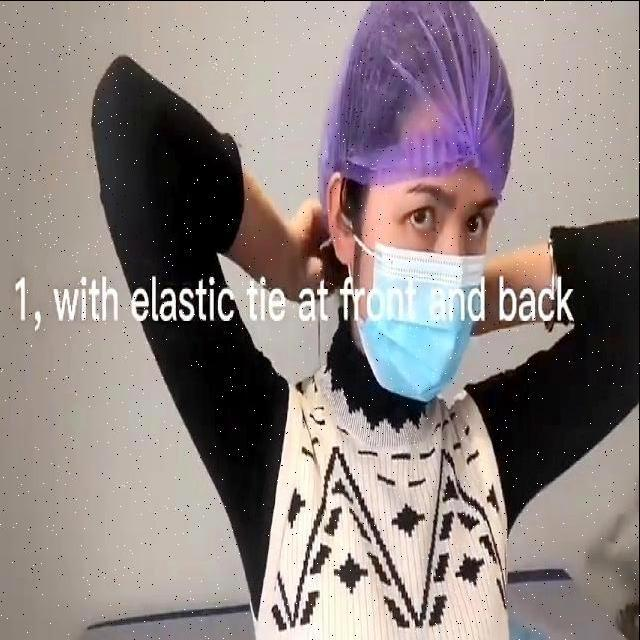gloves: (342, 6, 504, 171)
mask: (355, 258, 481, 386)
no_apron: (290, 196, 332, 294)
